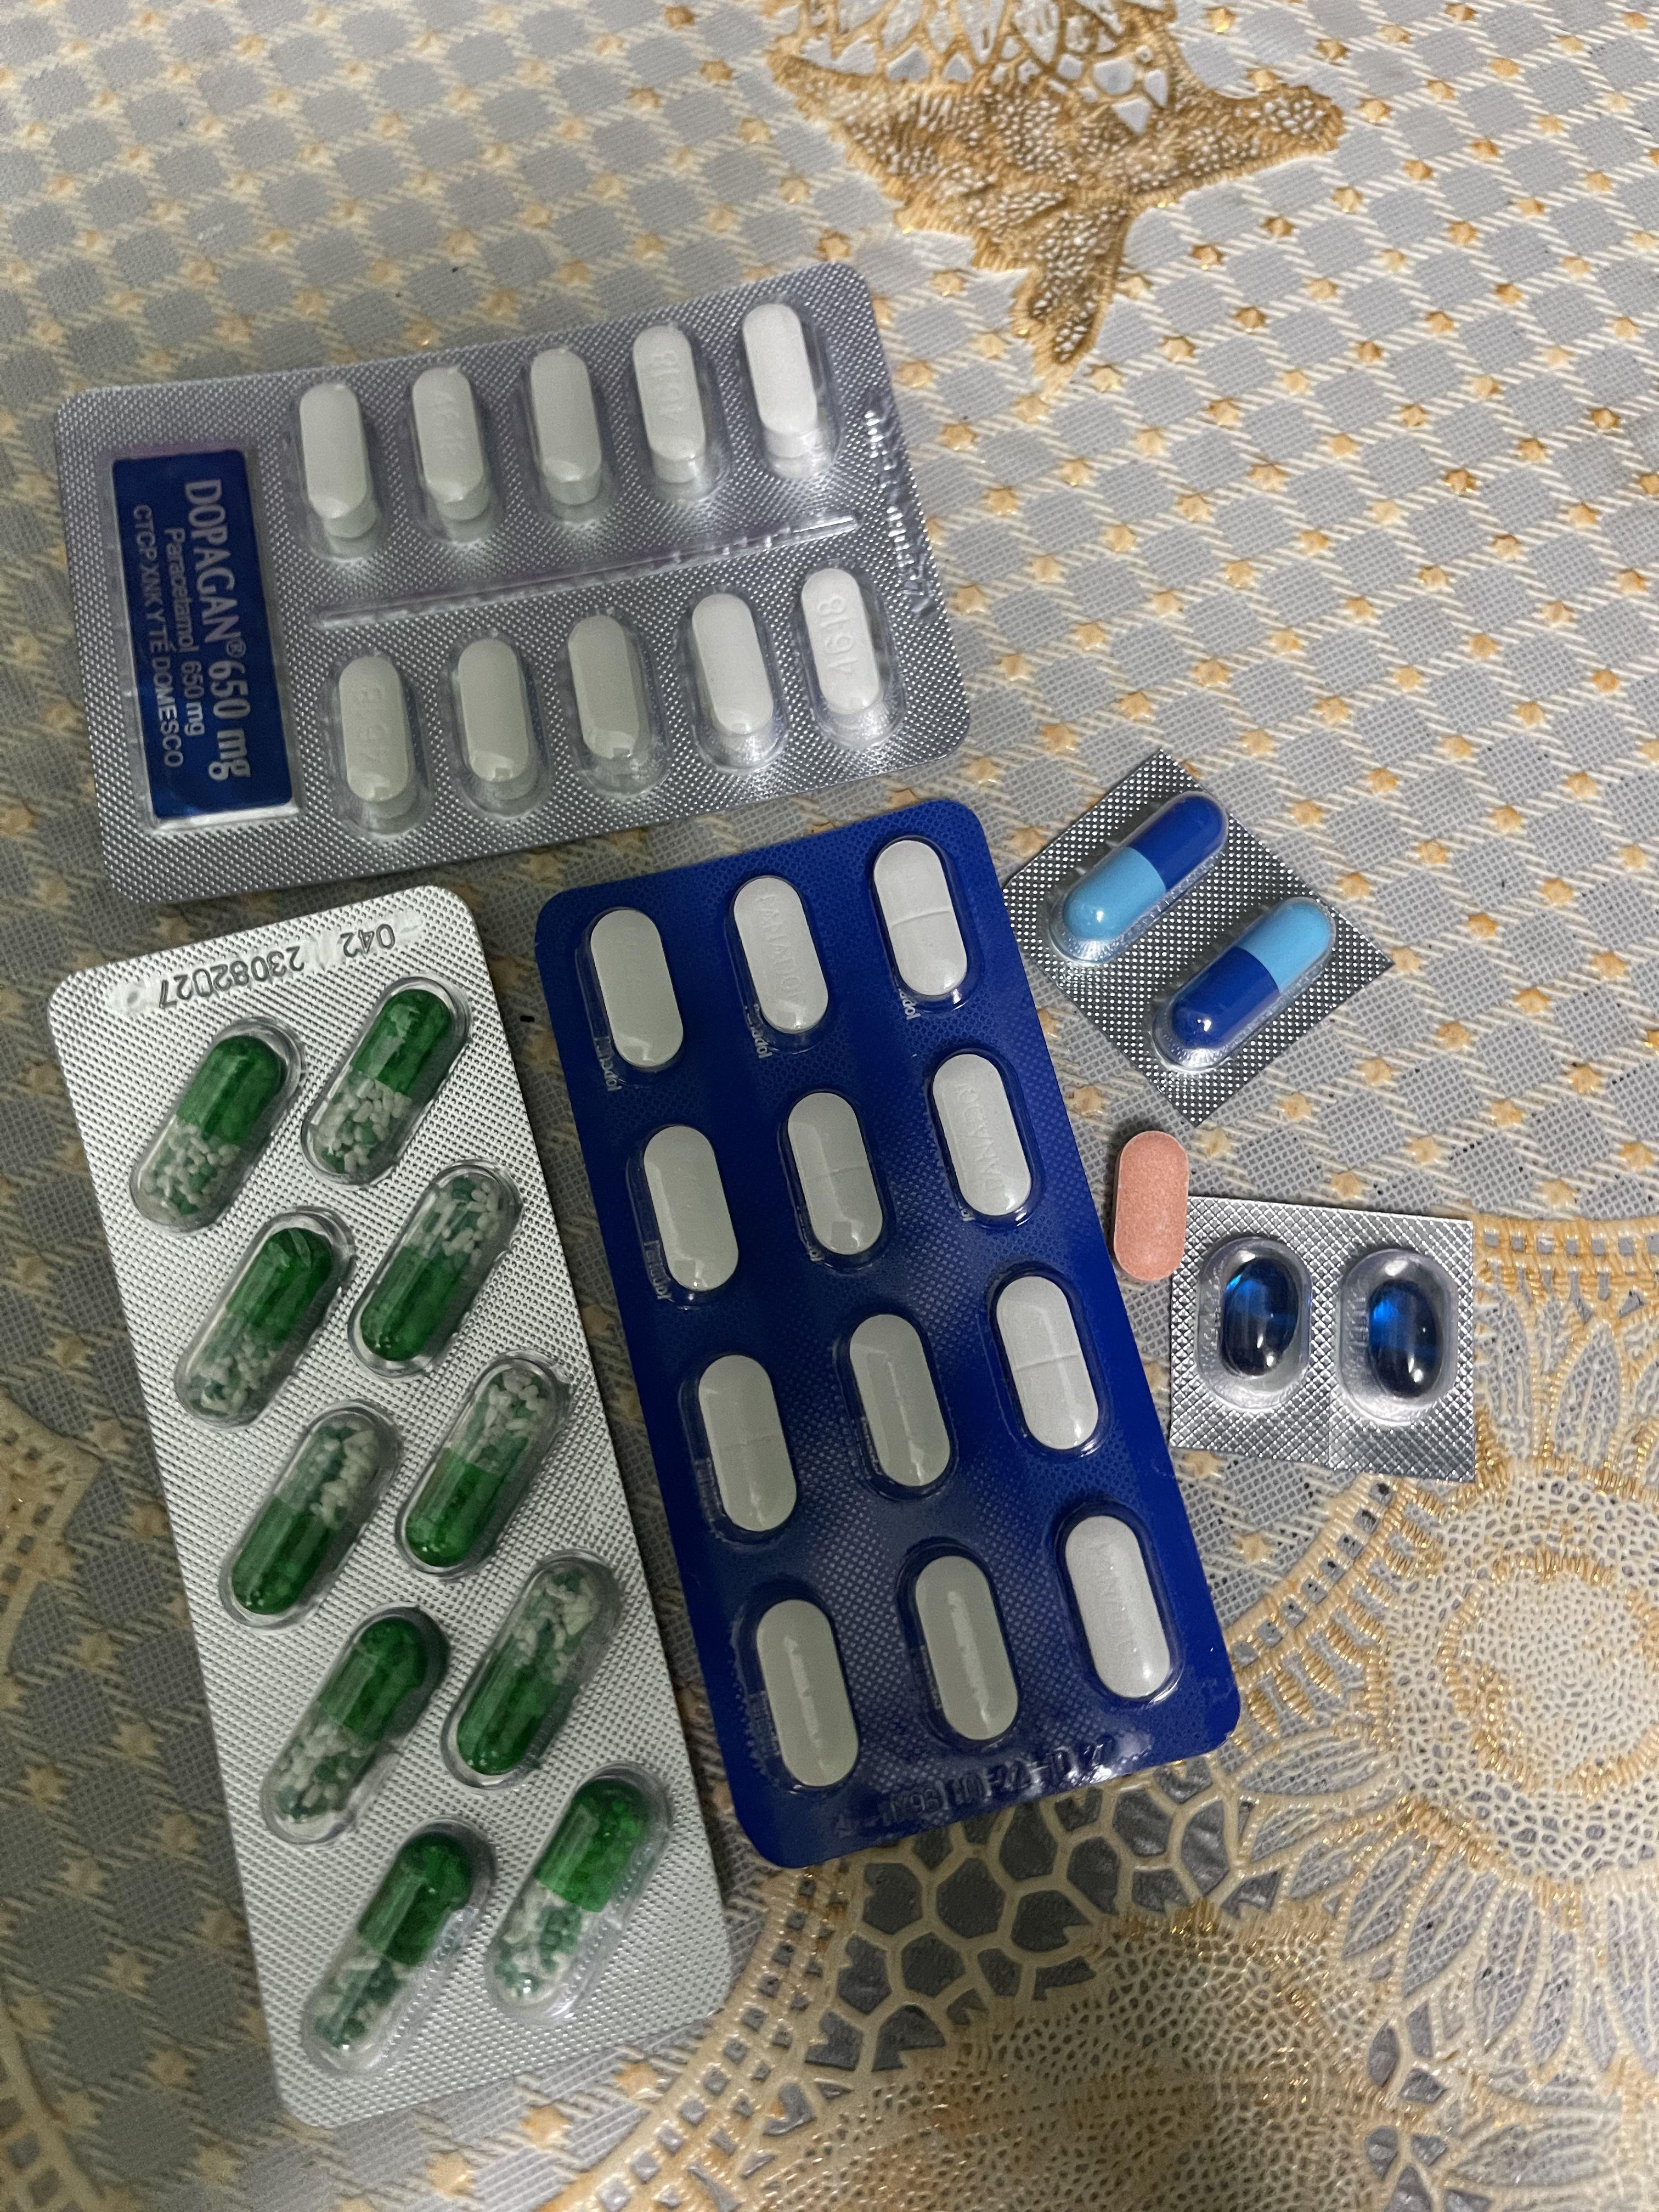Lincomyxin_500mg: (1221, 1256, 1300, 1379), (1367, 1277, 1440, 1398)
Loratadine_10mg: (1112, 1128, 1190, 1276)
Paracetamol_350mg: (897, 1541, 1025, 1754), (1056, 1505, 1175, 1707), (750, 1592, 864, 1793), (843, 1311, 952, 1499), (991, 1272, 1101, 1459), (695, 1355, 798, 1540), (782, 1089, 889, 1266), (930, 1052, 1036, 1224), (637, 1125, 740, 1299), (730, 874, 832, 1046), (587, 909, 687, 1072), (873, 839, 970, 1005)
Paracetamol_500mg: (794, 562, 905, 751), (440, 630, 545, 815), (685, 594, 785, 771), (566, 613, 663, 792), (741, 303, 827, 481), (632, 325, 717, 493), (525, 349, 610, 515), (409, 366, 494, 530), (298, 382, 380, 545), (336, 655, 415, 811)
Paracetamol_650mg: (296, 1818, 496, 2079), (256, 1600, 453, 1843), (213, 1400, 404, 1629), (438, 1553, 621, 1789), (171, 1209, 357, 1429), (397, 1356, 572, 1577), (488, 1779, 654, 2008), (348, 1166, 522, 1379), (129, 1020, 304, 1228), (304, 978, 470, 1179)
pill: (1052, 791, 1224, 965), (1167, 900, 1333, 1062)
